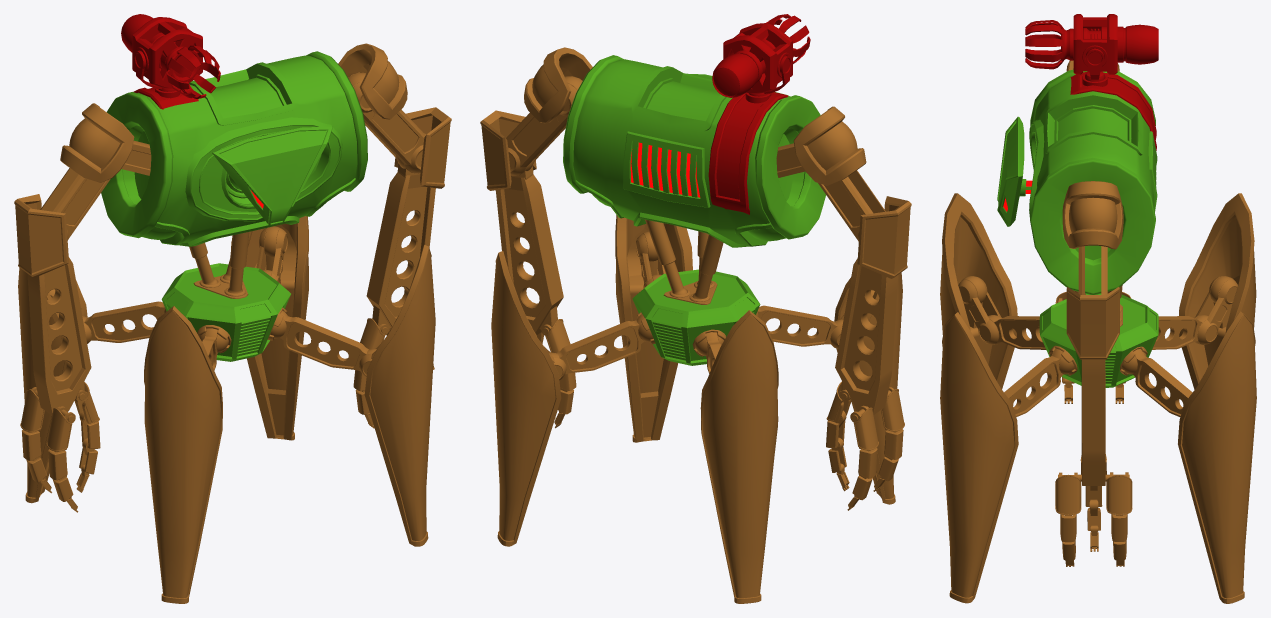
The model's file is Big_Robot_Texture.fbx.
3 views of the same model, side by side, from view 1: azimuth 30°, elevation 25°; view 2: azimuth 150°, elevation 25°; view 3: azimuth 270°, elevation 25° (orthographic). The views are drawn at different scales.
Parts seen in each view (by area): view 1: polySurface166; view 2: polySurface166; view 3: polySurface166.
Part boxes in pixels (<box>): polySurface166: <box>14,14,451,603</box>; polySurface166: <box>480,14,911,603</box>; polySurface166: <box>940,14,1256,603</box>.
Bounding box in the file's own units: 167 × 192 × 111.
